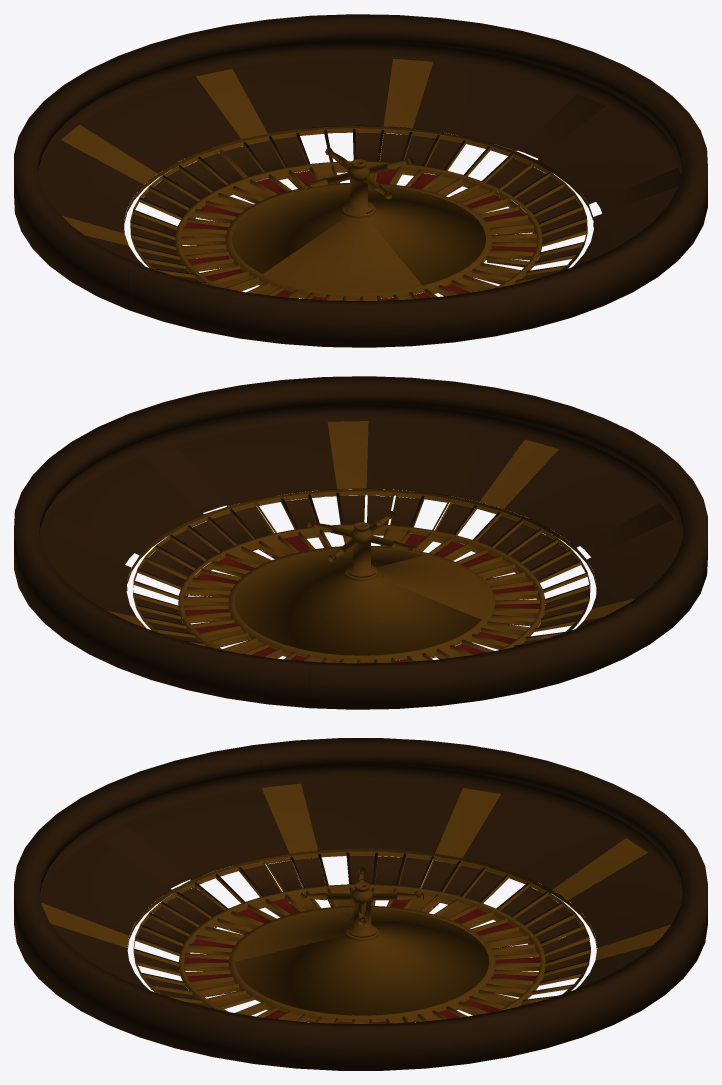
File: Roulette Wheel.fbx
The picture shows the model from 3 angles, top to bottom: view 1: azimuth 30°, elevation 25°; view 2: azimuth 150°, elevation 25°; view 3: azimuth 270°, elevation 25°; orthographic projection.
Parts seen in each view (by area): view 1: Roulette (Outer), Roulette (Inner); view 2: Roulette (Outer), Roulette (Inner); view 3: Roulette (Outer), Roulette (Inner).
Boxes of the visible parts, bbox=[...] form: Roulette (Outer): bbox=[14, 14, 707, 347]; Roulette (Inner): bbox=[124, 125, 593, 301]; Roulette (Outer): bbox=[14, 376, 707, 709]; Roulette (Inner): bbox=[127, 488, 596, 663]; Roulette (Outer): bbox=[14, 738, 707, 1070]; Roulette (Inner): bbox=[127, 848, 596, 1023].
Bounding box in the file's own units: 1315 × 180 × 1318.
